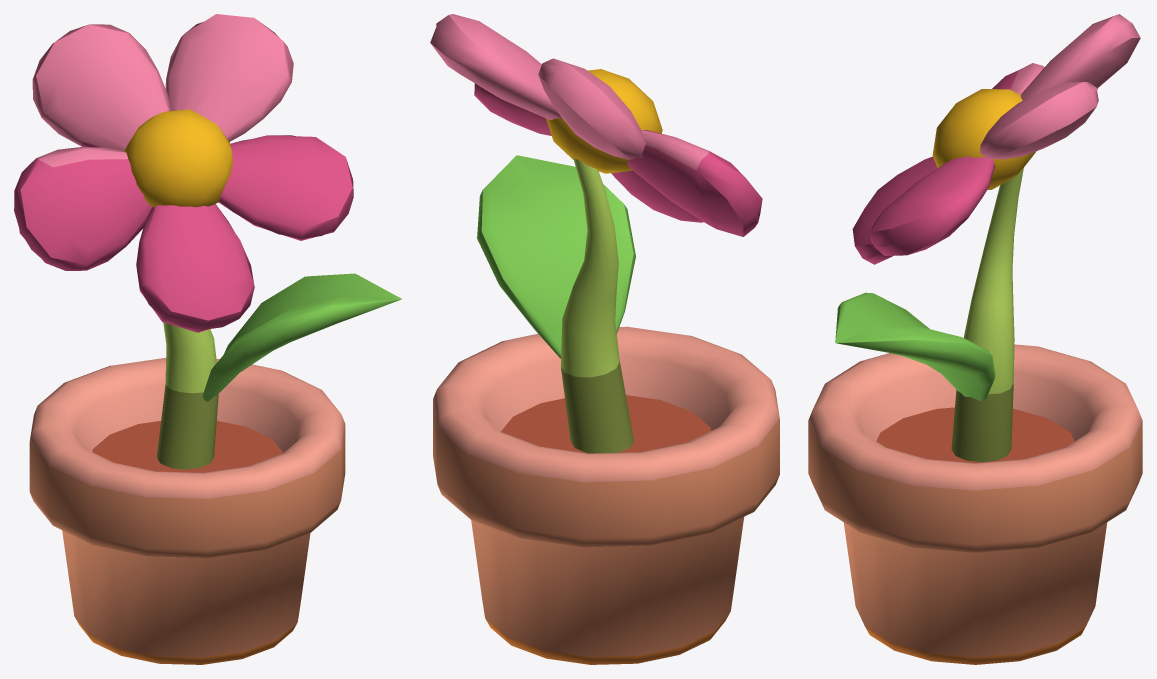
The model's file is planta_florzinha_pacote.glb.
3 renders of one model, left to right at view 1: azimuth 30°, elevation 25°; view 2: azimuth 150°, elevation 25°; view 3: azimuth 270°, elevation 25°, orthographic. The views are drawn at different scales.
Parts seen in each view (by area): view 1: planta_florzinha_pacote; view 2: planta_florzinha_pacote; view 3: planta_florzinha_pacote.
Boxes of the visible parts, bbox=[...] form: planta_florzinha_pacote: bbox=[14, 14, 401, 664]; planta_florzinha_pacote: bbox=[430, 14, 779, 664]; planta_florzinha_pacote: bbox=[808, 14, 1142, 664].
Bounding box in the file's own units: 0.1349 × 0.2403 × 0.124.
Materials: 1 (1 with a texture image).
